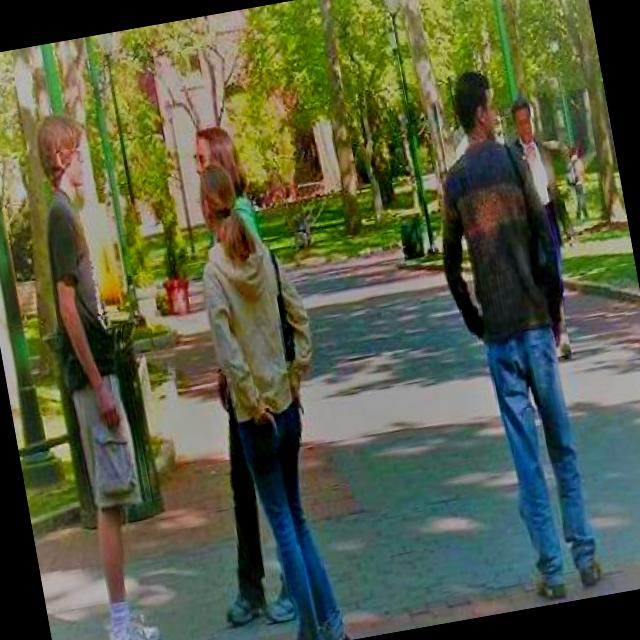Person: (410, 58, 608, 609), (182, 147, 367, 640), (6, 109, 175, 640), (498, 90, 600, 360)
